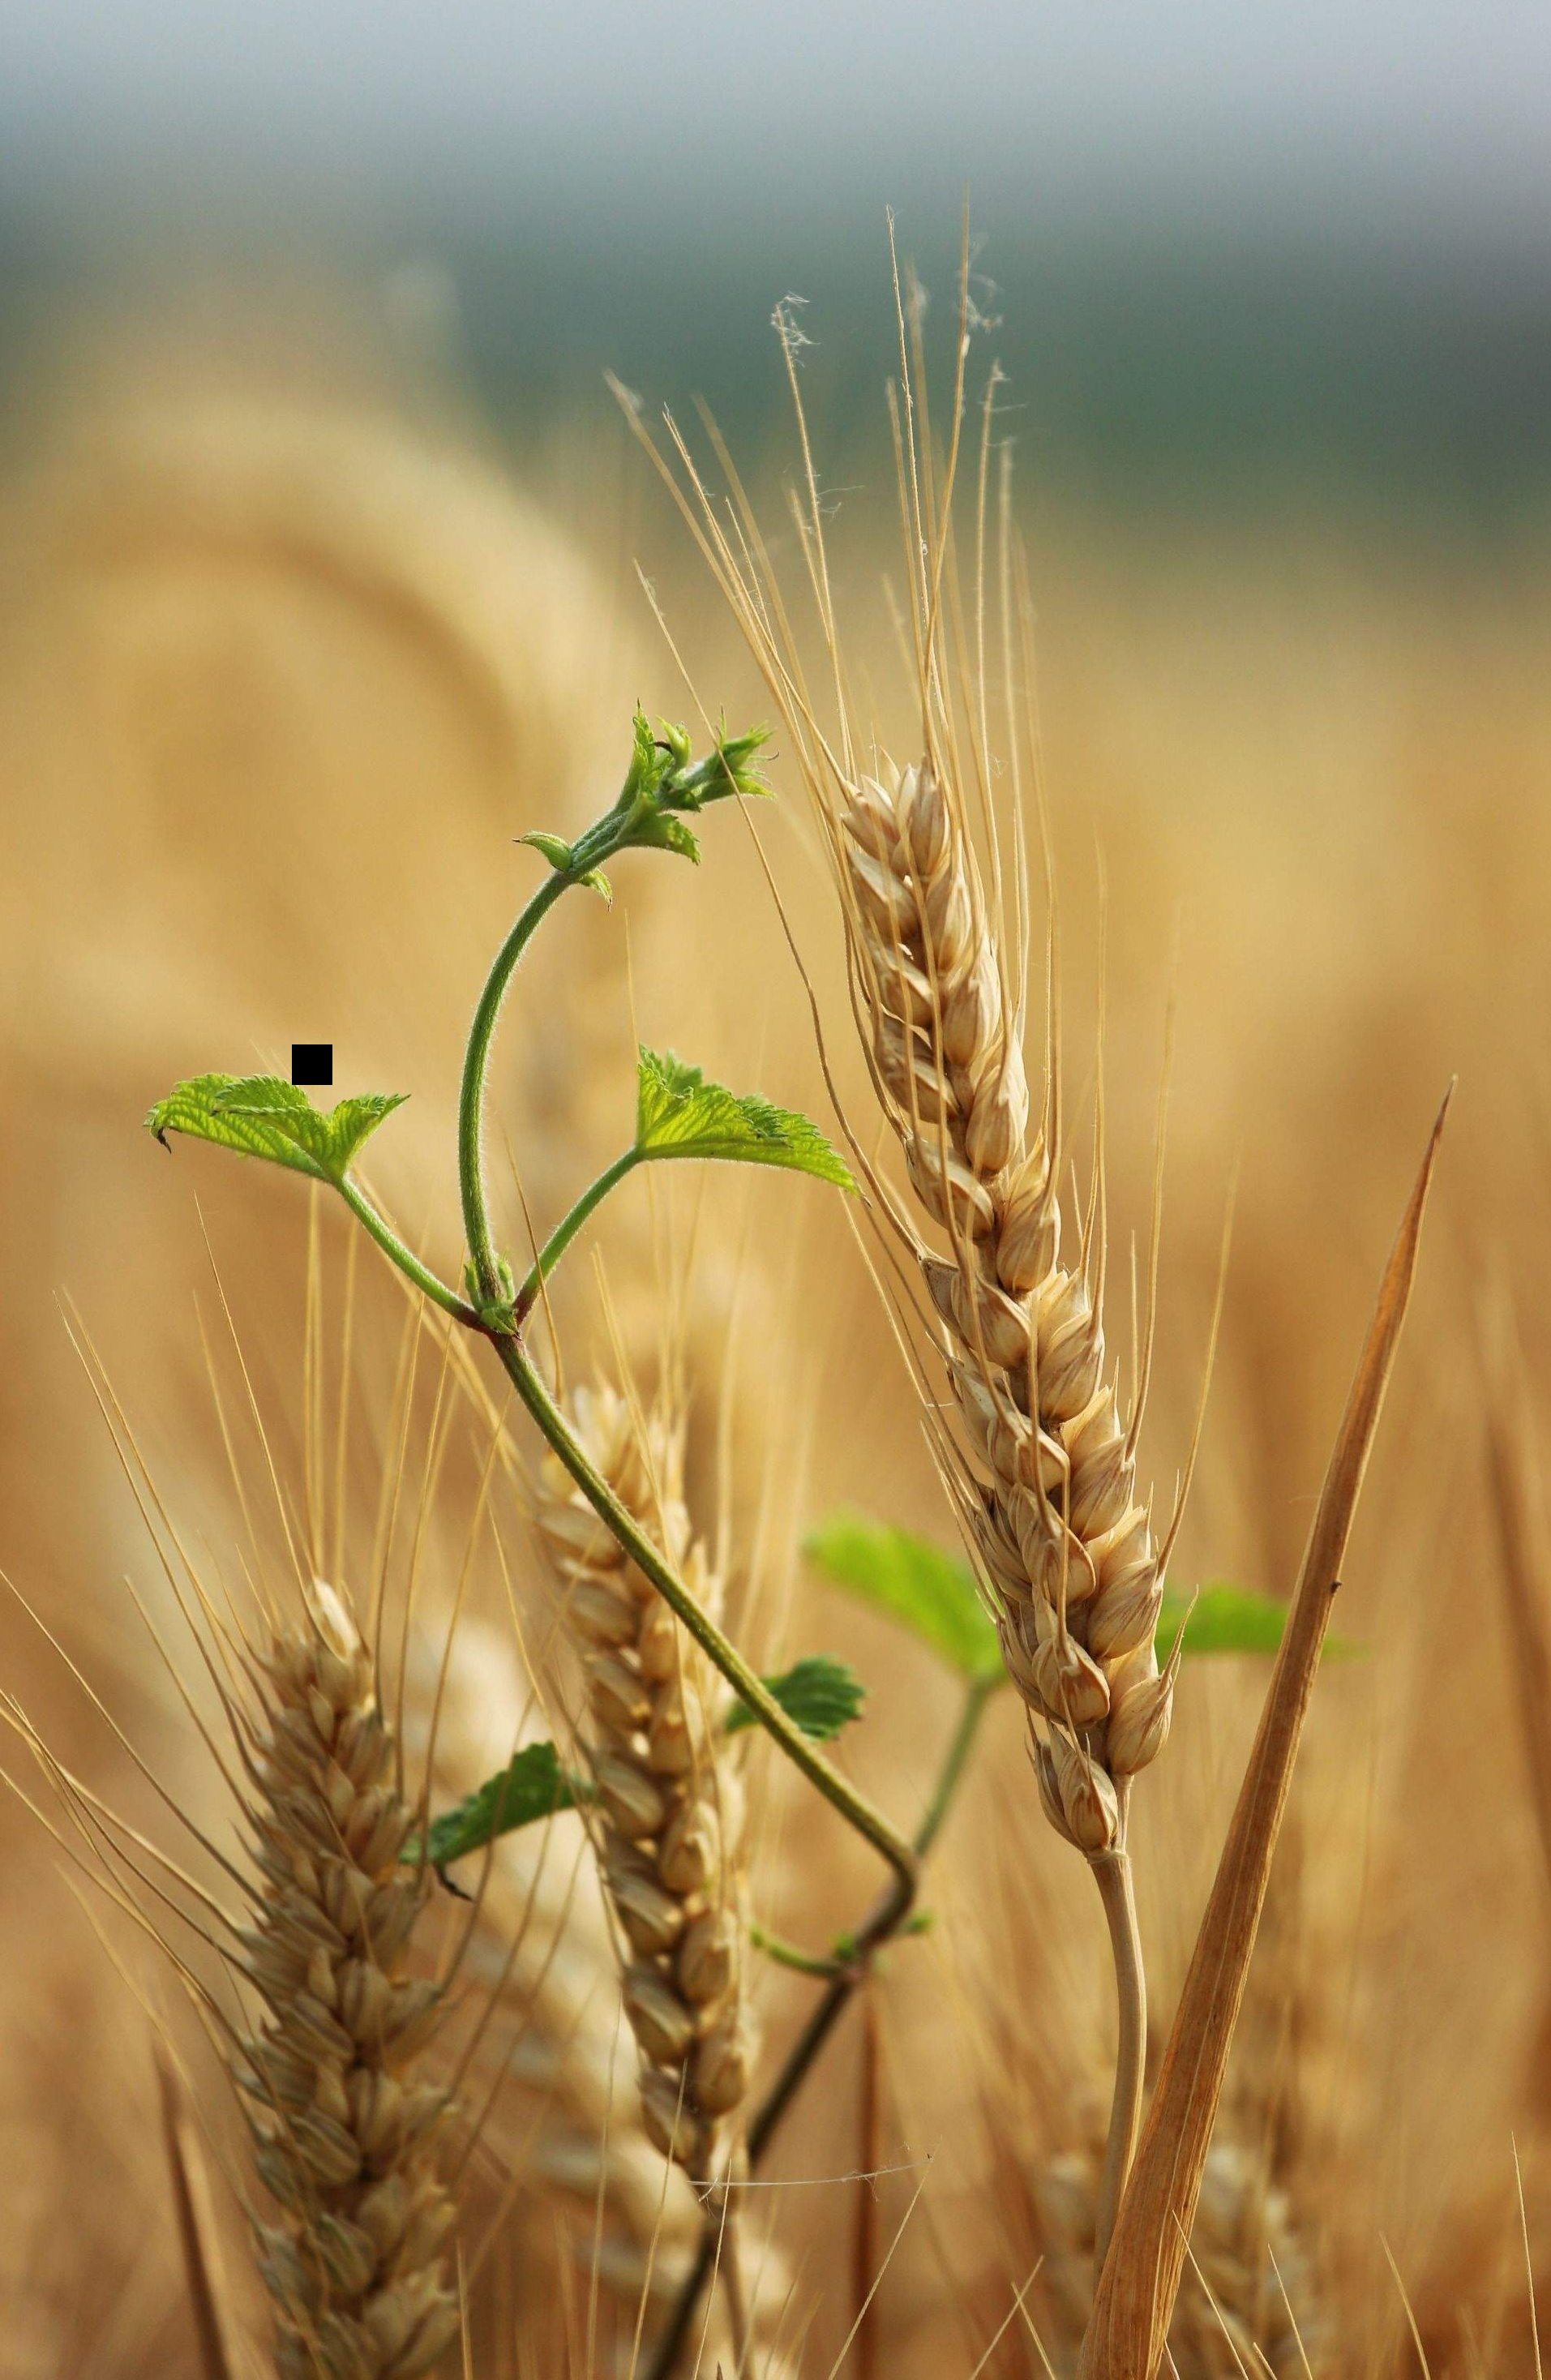wheat: (788, 600, 1227, 1894), (120, 1554, 468, 2371), (545, 1360, 784, 2196)
